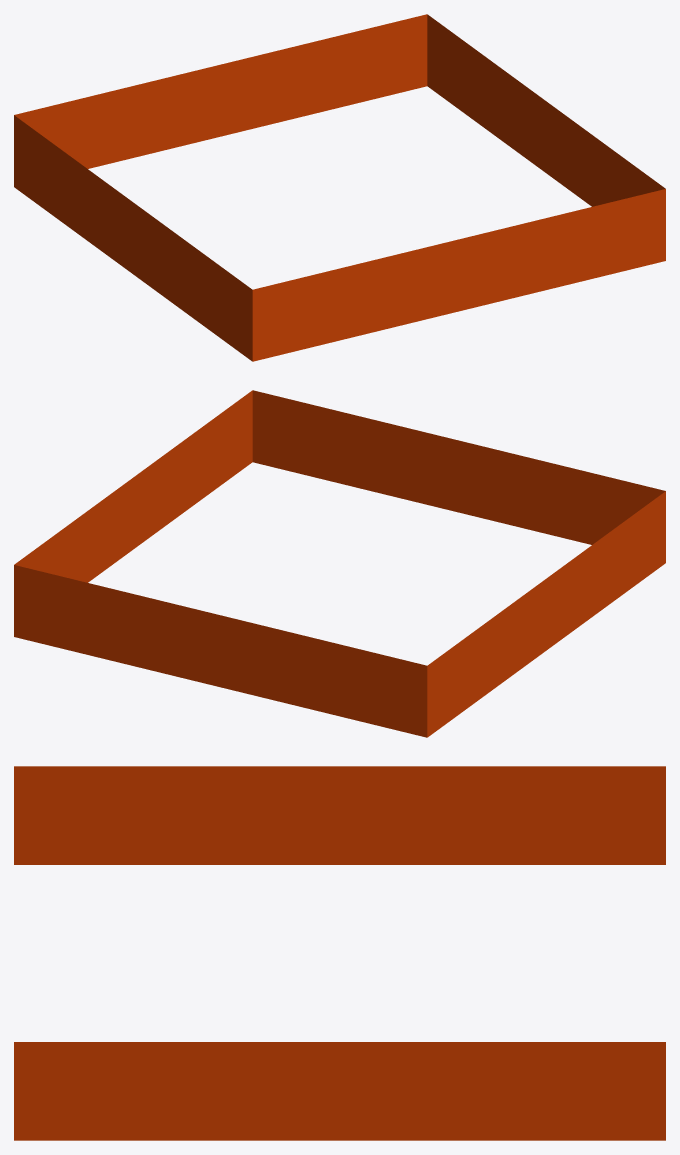
Rendered from selector5.gltf.
3 renders of one model, top to bottom at view 1: azimuth 30°, elevation 25°; view 2: azimuth 150°, elevation 25°; view 3: azimuth 270°, elevation 25°, orthographic. The views are drawn at different scales.
Parts seen in each view (by area): view 1: Cube.037; view 2: Cube.037; view 3: Cube.037.
Boxes of the visible parts, x1,y1,x2,y2 form: Cube.037: [14, 14, 665, 361]; Cube.037: [14, 390, 665, 737]; Cube.037: [14, 766, 665, 1140].
Bounding box in the file's own units: 6.06 × 1.01 × 6.06.
